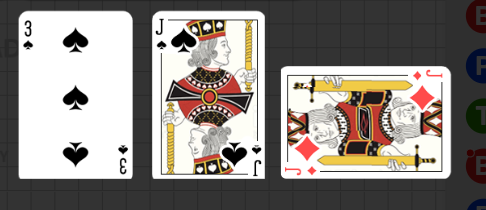3S: (116, 142, 129, 175)
JD: (409, 67, 444, 81)
JS: (220, 130, 264, 177), (153, 10, 197, 56)
